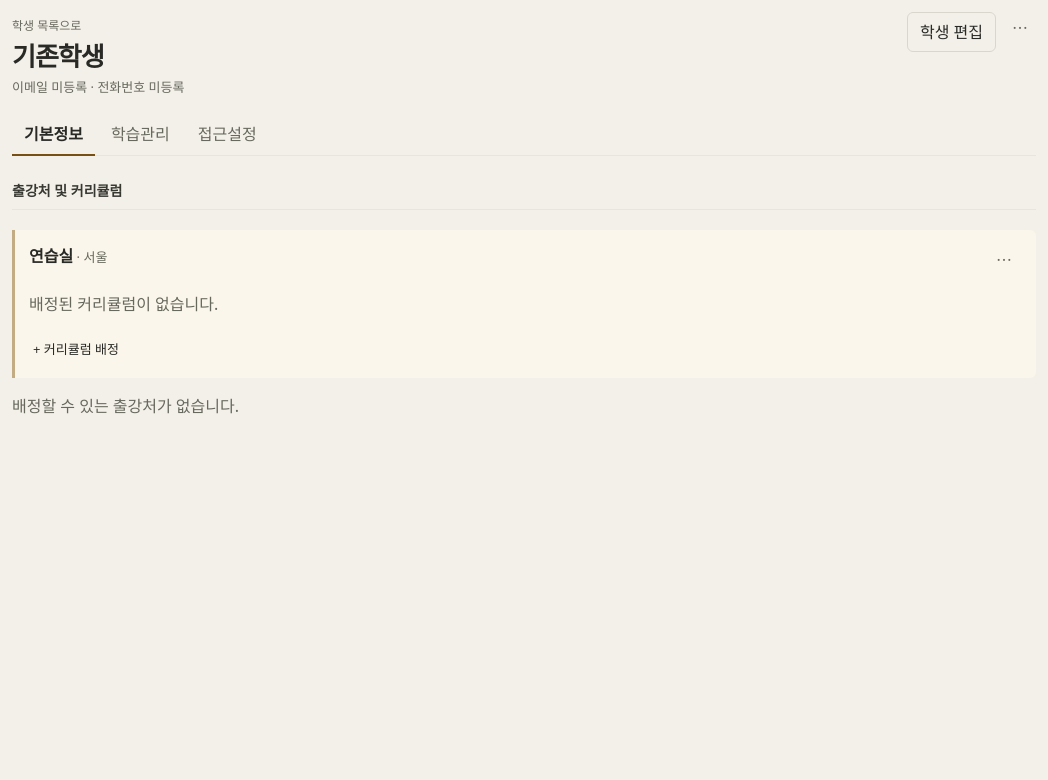
Test case: assigns a curriculum and refetches learning
Step 1. Click the button "+ 커리큘럼 배정" → (76, 350), box [31, 334, 121, 366]
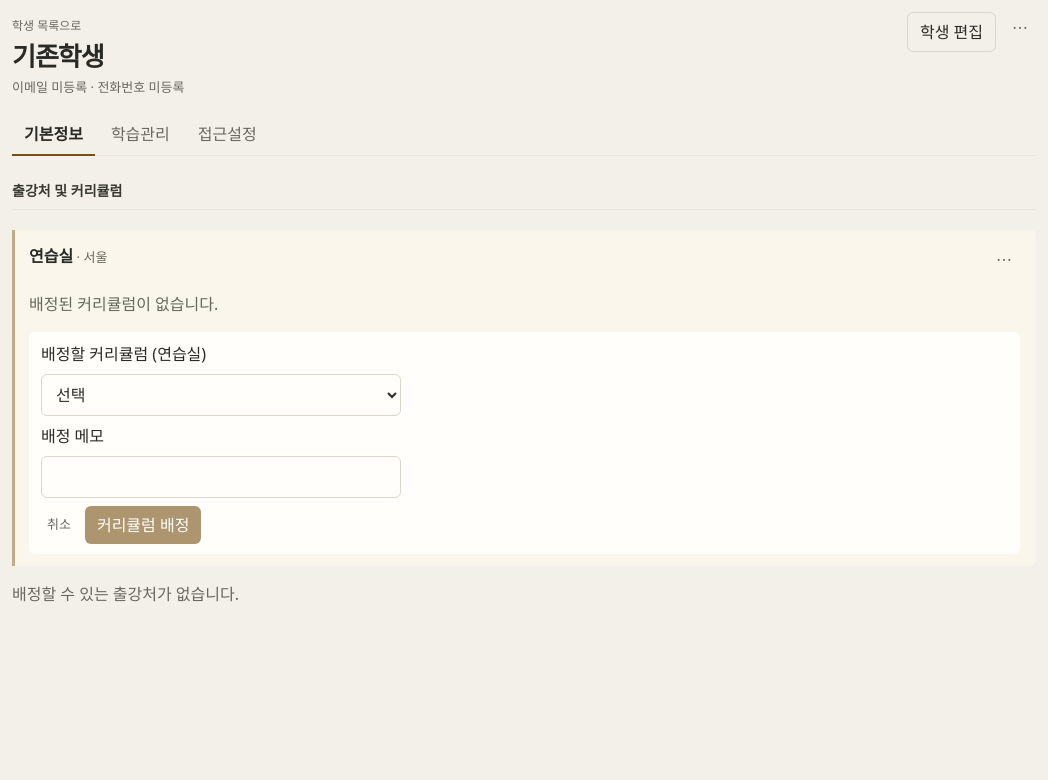
Step 2. Select "기초" in the dropdown labelled "배정할 커리큘럼 (연습실)" → (221, 394), box [41, 374, 401, 416]
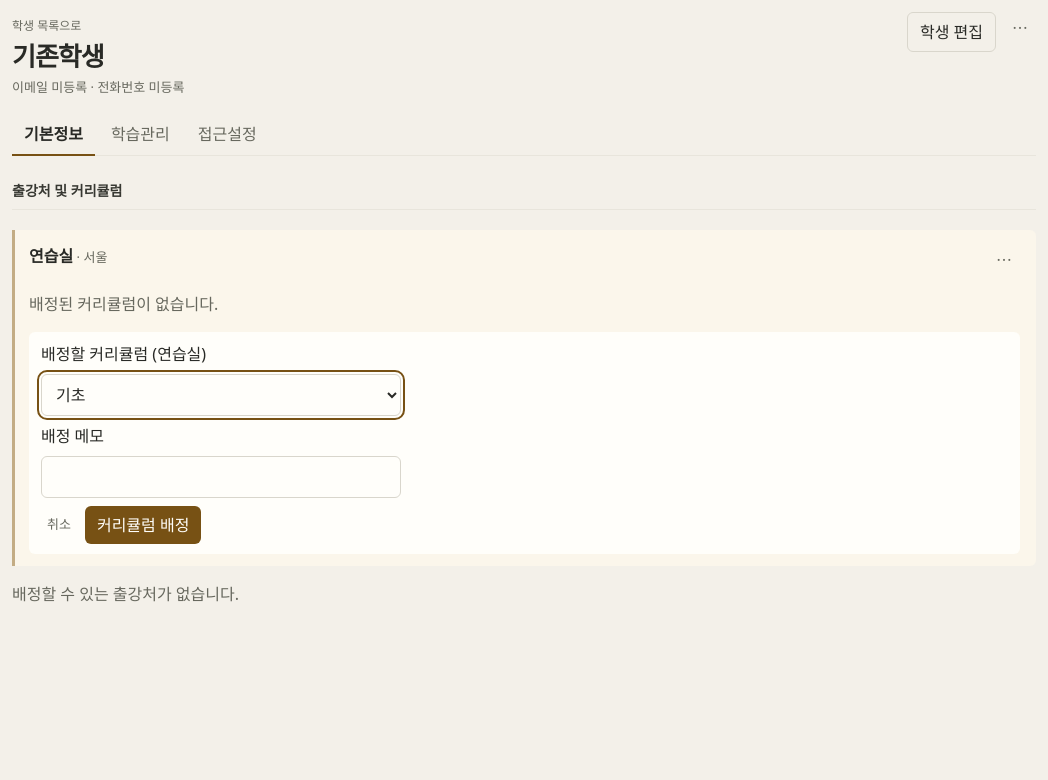
Step 3. Type "노트" into the field labelled "배정 메모" → (221, 476), box [41, 456, 401, 498]
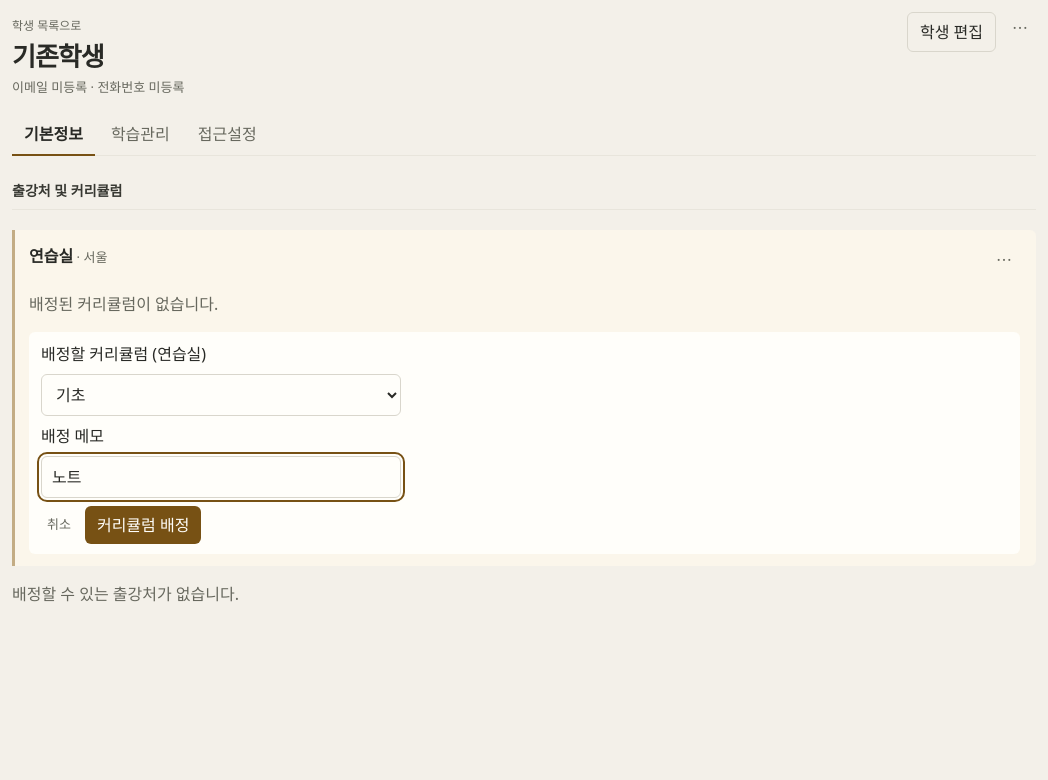
Step 4. Click the button "커리큘럼 배정" → (143, 524), box [85, 506, 201, 544]
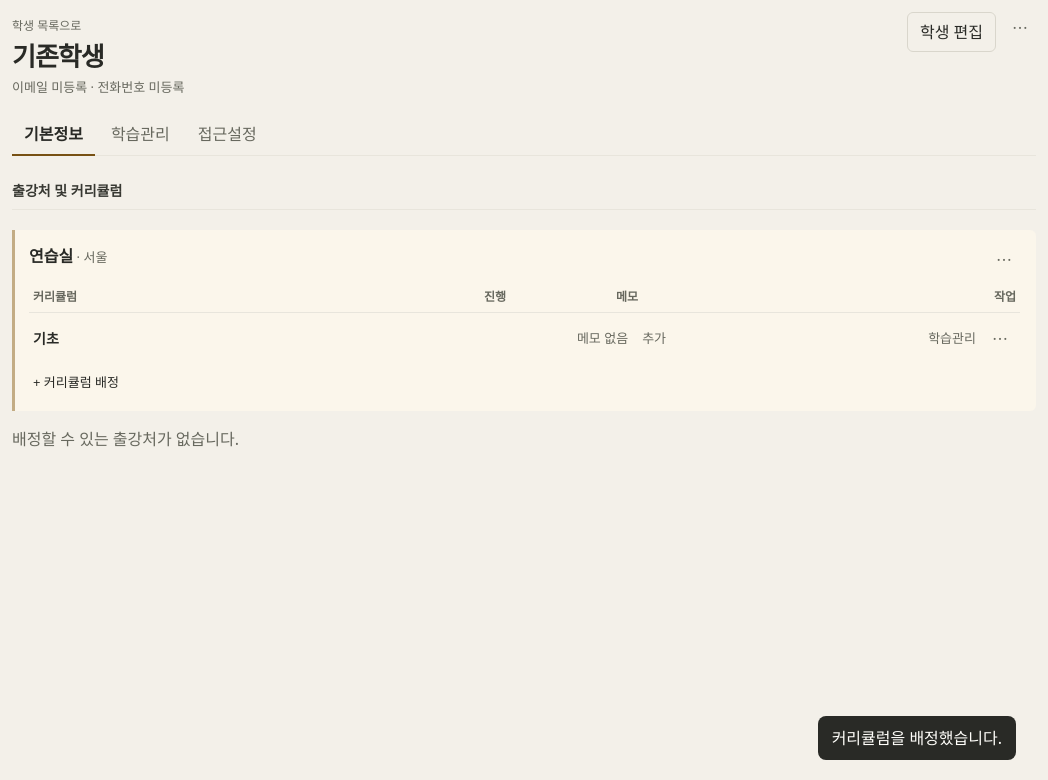
Expected: the text "커리큘럼을 배정했습니다." is shown, [818, 716, 1016, 760]
